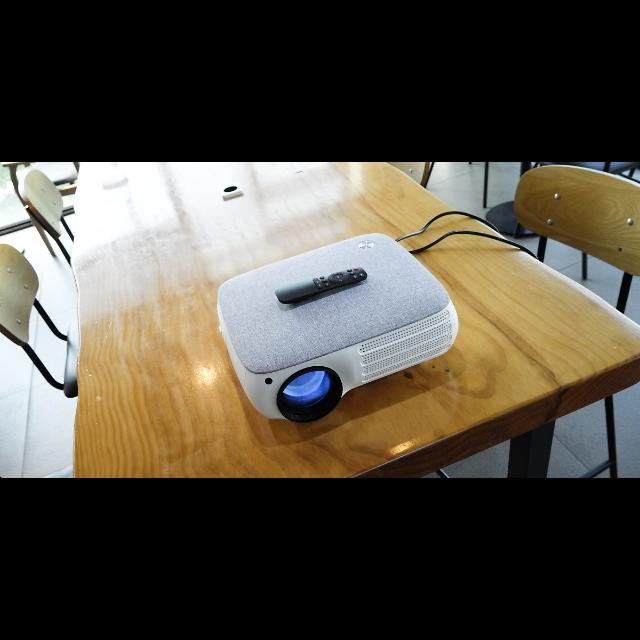Projector: (217, 233, 459, 425)
